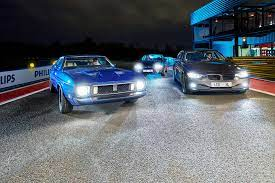headlight: (74, 79, 141, 98), (181, 67, 252, 82), (130, 60, 163, 74)
